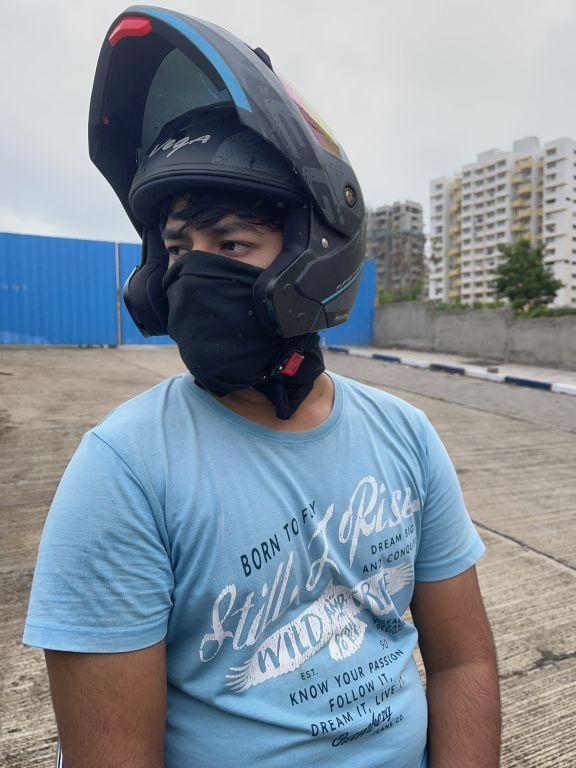helmet: (72, 0, 389, 403)
